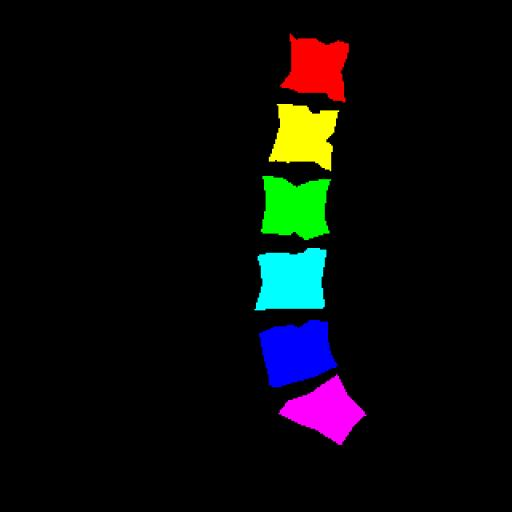L1: (281, 34, 349, 102)
L2: (269, 104, 339, 170)
L3: (261, 176, 330, 240)
L4: (256, 248, 326, 310)
L5: (259, 320, 337, 387)
S1: (280, 376, 365, 444)
